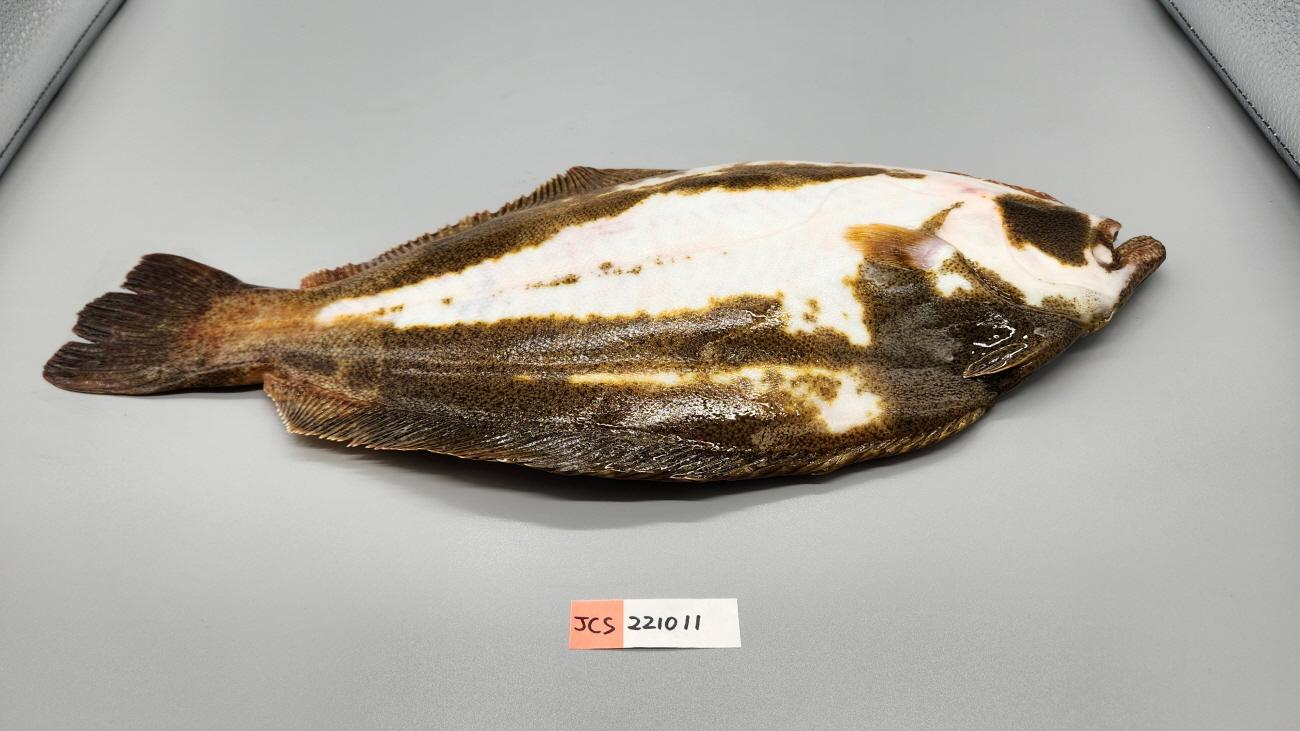VIOUY: (38, 164, 1166, 485)
